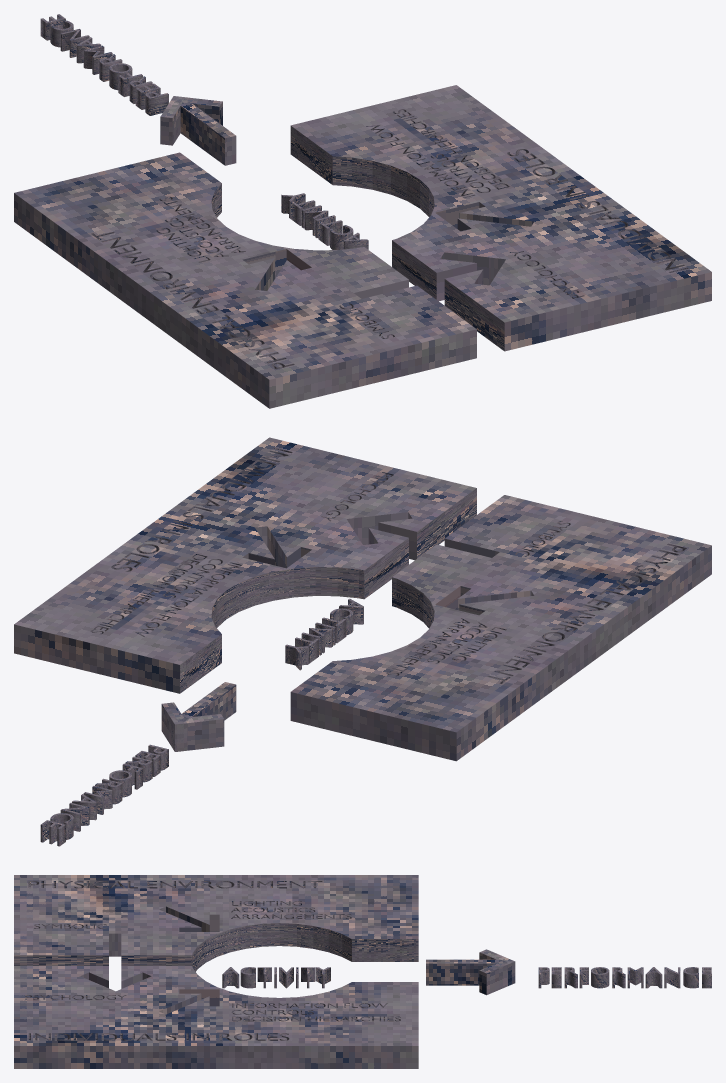
Rendered from Diagram.glb.
3 renders of one model, top to bottom at view 1: azimuth 30°, elevation 25°; view 2: azimuth 150°, elevation 25°; view 3: azimuth 270°, elevation 25°, orthographic. The views are drawn at different scales.
Visible parts, largest first — view 1: Pedestal, Text_Performance, ArrowRight, Text_Activity; view 2: Pedestal, Text_Performance, ArrowRight, Text_Activity; view 3: Pedestal, Text_Performance, ArrowRight, Text_Activity.
Boxes of the visible parts, x1,y1,x2,y2 form: Pedestal: (14,85,711,408); Text_Performance: (40,14,168,115); ArrowRight: (160,96,236,165); Text_Activity: (281,193,368,249); Pedestal: (14,437,711,761); Text_Performance: (40,744,168,846); ArrowRight: (161,682,236,751); Text_Activity: (285,598,363,670); Pedestal: (14,875,418,1068); Text_Performance: (538,967,711,988); ArrowRight: (426,949,515,995); Text_Activity: (222,967,330,988).
Bounding box in the file's own units: 16 × 1.05 × 27.6.
Materials: 1 (1 with a texture image).
